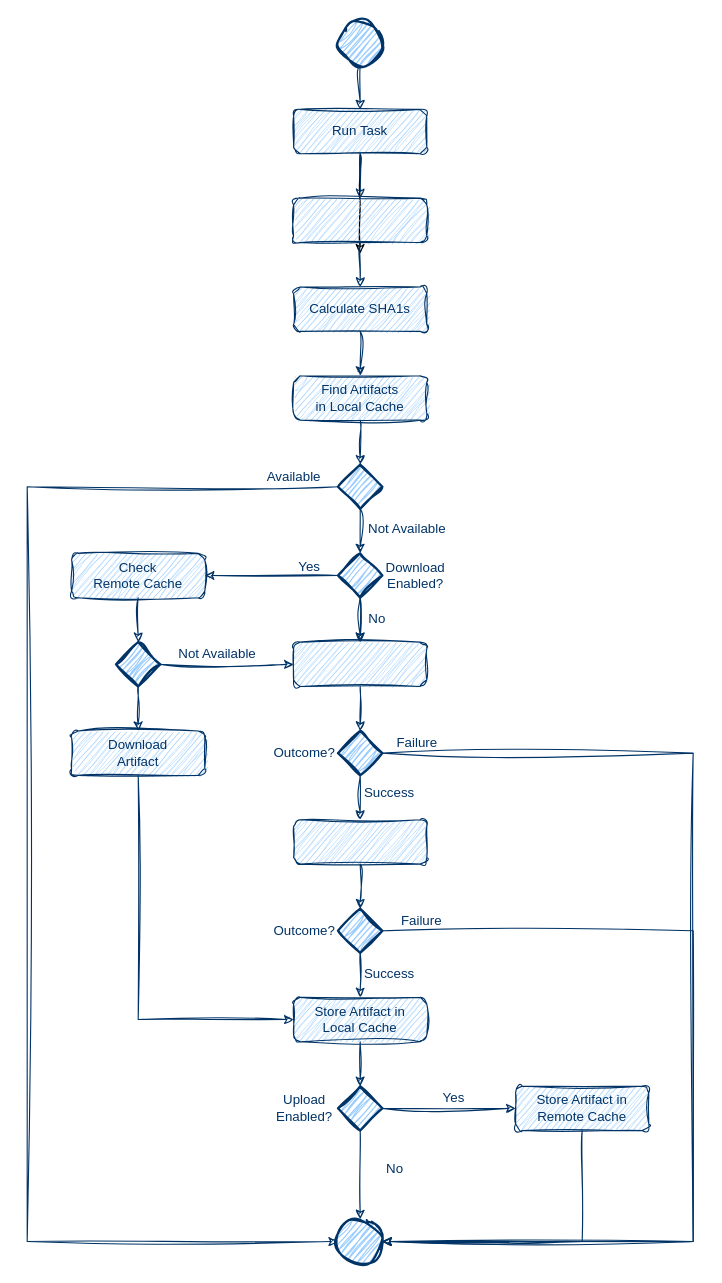
The diagram is 722 pixels wide and 1283 high, and some of its shapes have lost their labels. The centre of each missing label's shape, as x and y in pixels:
Build Graph: point (359, 220)
Execute Task.run: point (359, 664)
Publish Task.publish: point (359, 841)
